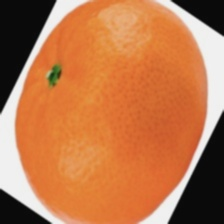orange: (27, 59, 169, 202)
